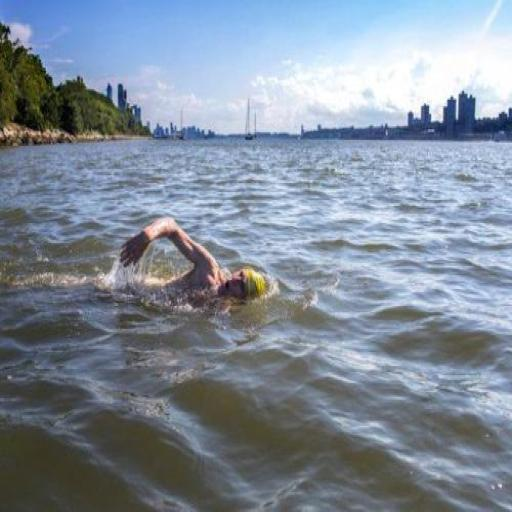swimming: (116, 214, 278, 316)
